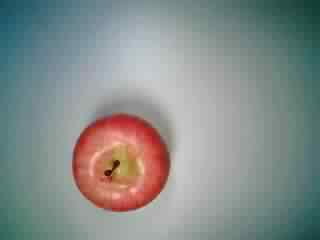apple: (70, 113, 174, 214)
